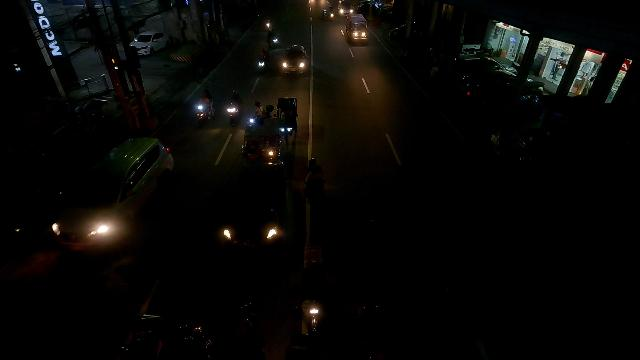car: (51, 137, 173, 250), (281, 44, 310, 73)
jeepney: (345, 13, 368, 44)
motorcycle: (246, 99, 273, 127), (195, 88, 214, 126), (227, 89, 243, 126), (257, 48, 269, 70), (266, 29, 275, 50), (264, 18, 272, 31)
